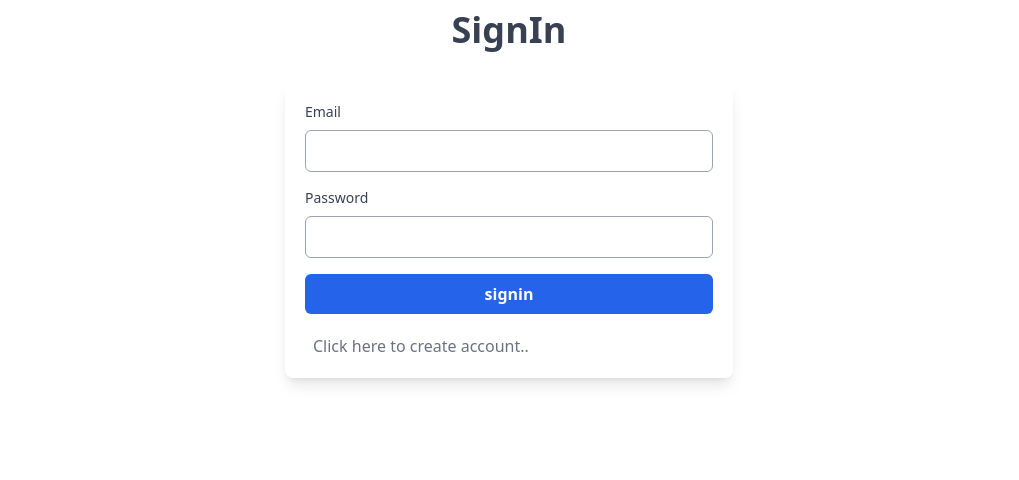
Scenario: Signin Component › should show error message when authentication credintials not mathches
Type "avanthik@gmail.com" into the field labelled "Email" at (509, 151), box [305,130,713,172]
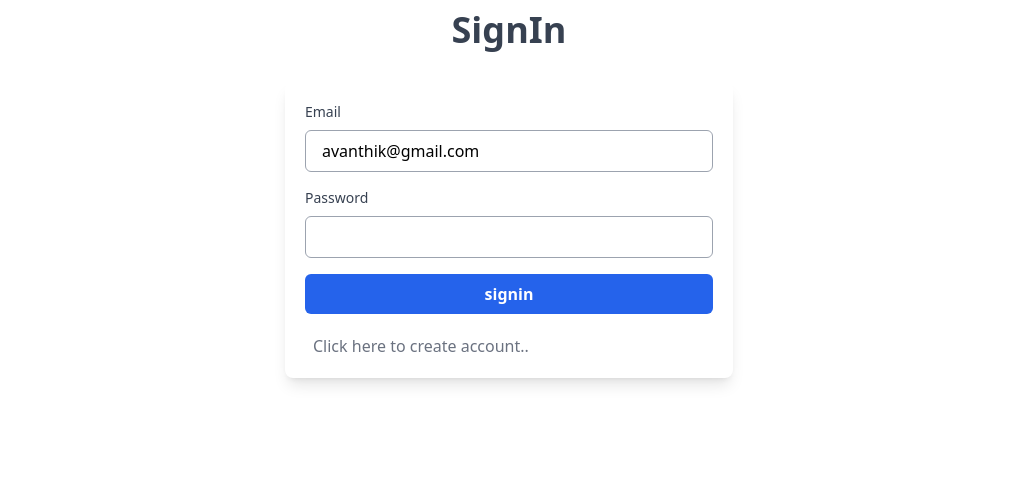
Type "avanthik" into the password field labelled "Password" at (509, 237), box [305,216,713,258]
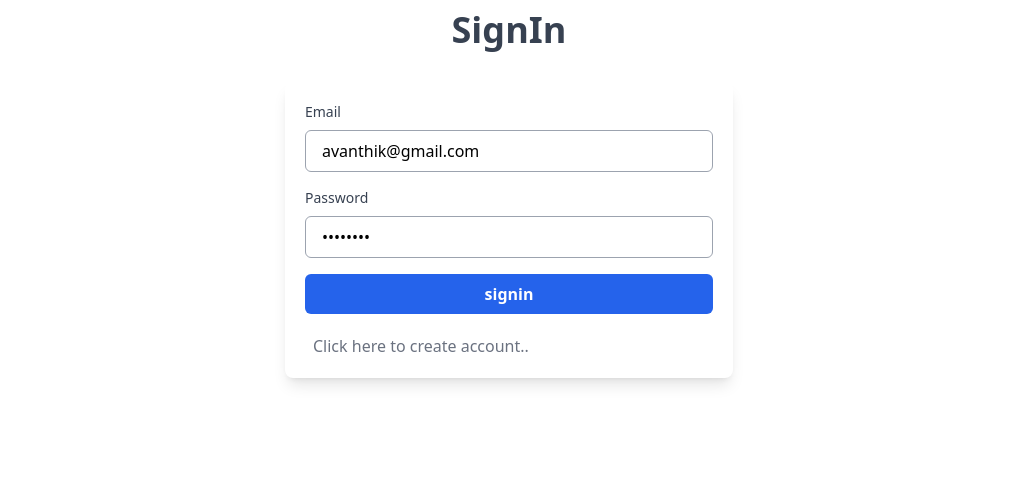
Submit the form from the form, box [305,102,713,172]
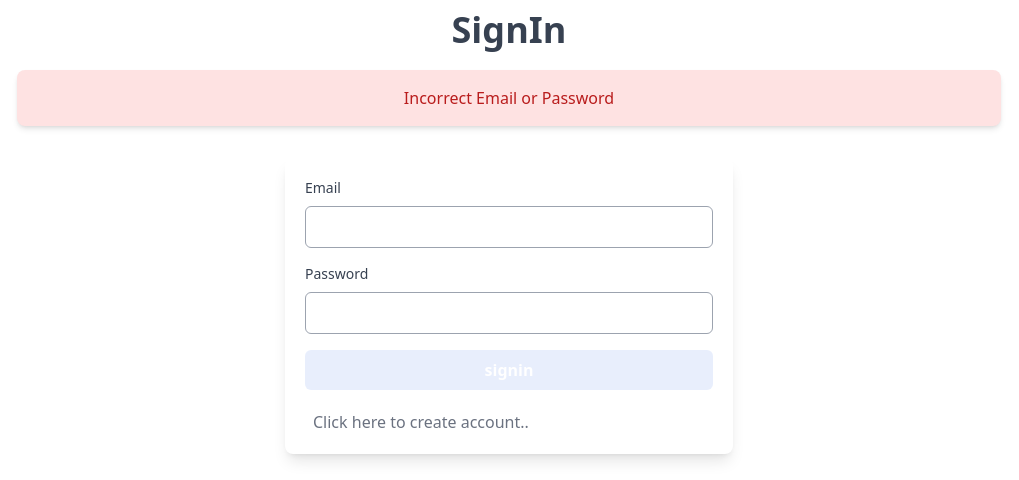
expect the heading "Incorrect Email or Password" is shown: met, box [404,86,614,110]
expect the field labelled "Email" is empty: met, box [305,206,713,248]
expect the password field labelled "Password" is empty: met, box [305,292,713,334]
